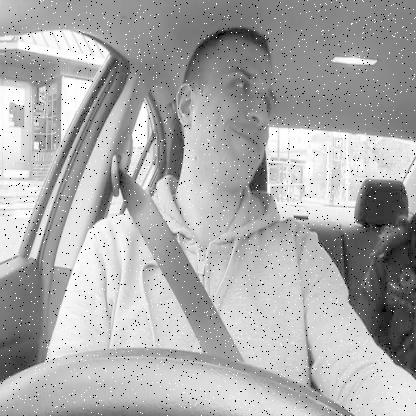seatbelt: (102, 16, 302, 376)
